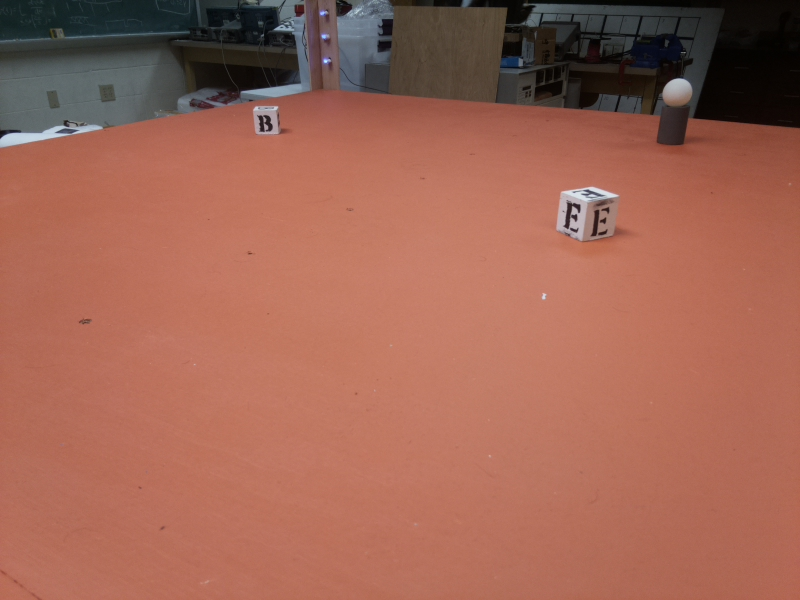blockB: (253, 106, 279, 137)
blockE: (555, 186, 619, 246)
corner: (304, 1, 342, 96)
obstacle: (654, 78, 694, 146)
